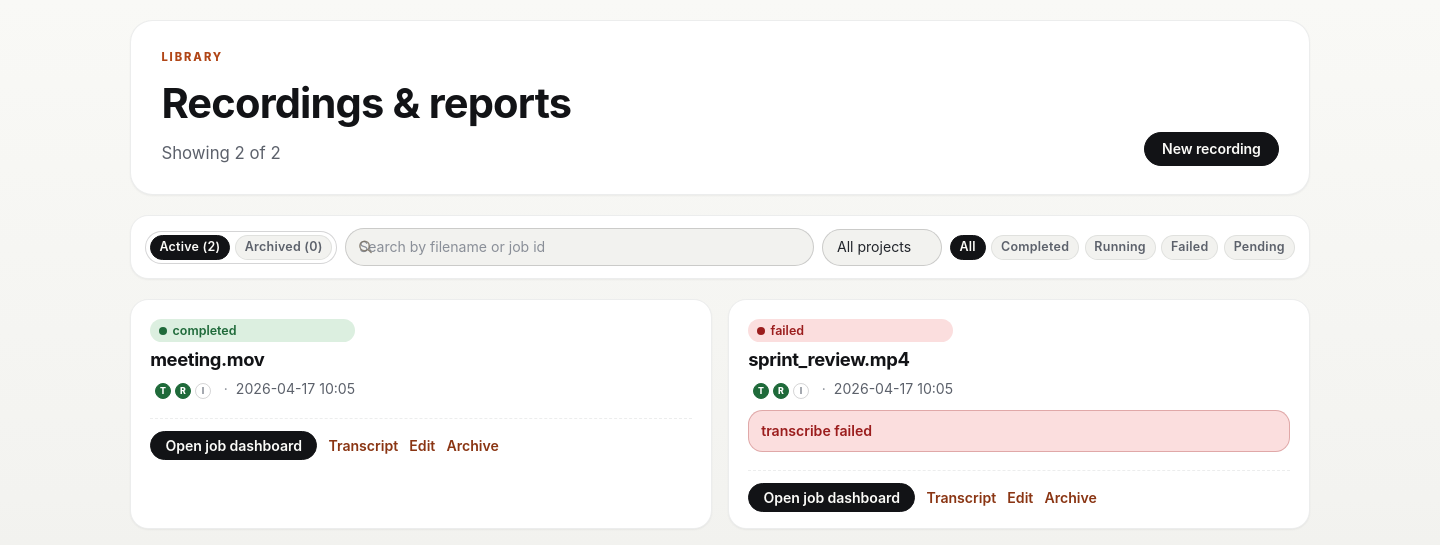
JobsIndexPage › filters by search term and by status pill
Expected: the heading "meeting.mov" is shown, 150,348 -> 264,370
Type "sprint" into the search field with placeholder "Search by filename or job id".
click(580, 247); type("sprint")  # box 345,228 -> 814,266
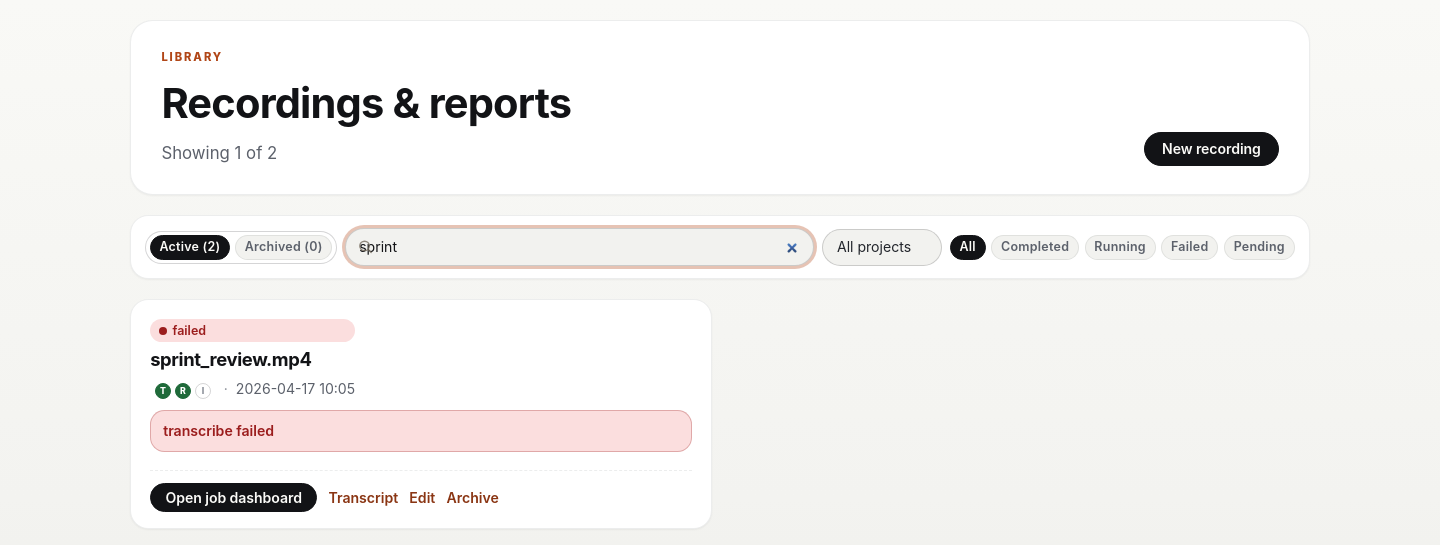
Expected: the heading "sprint_review.mp4" is shown, 150,348 -> 312,370
Expected: the heading "meeting.mov" is gone
Clear the search field with placeholder "Search by filename or job id" at (580, 247), box 345,228 -> 814,266
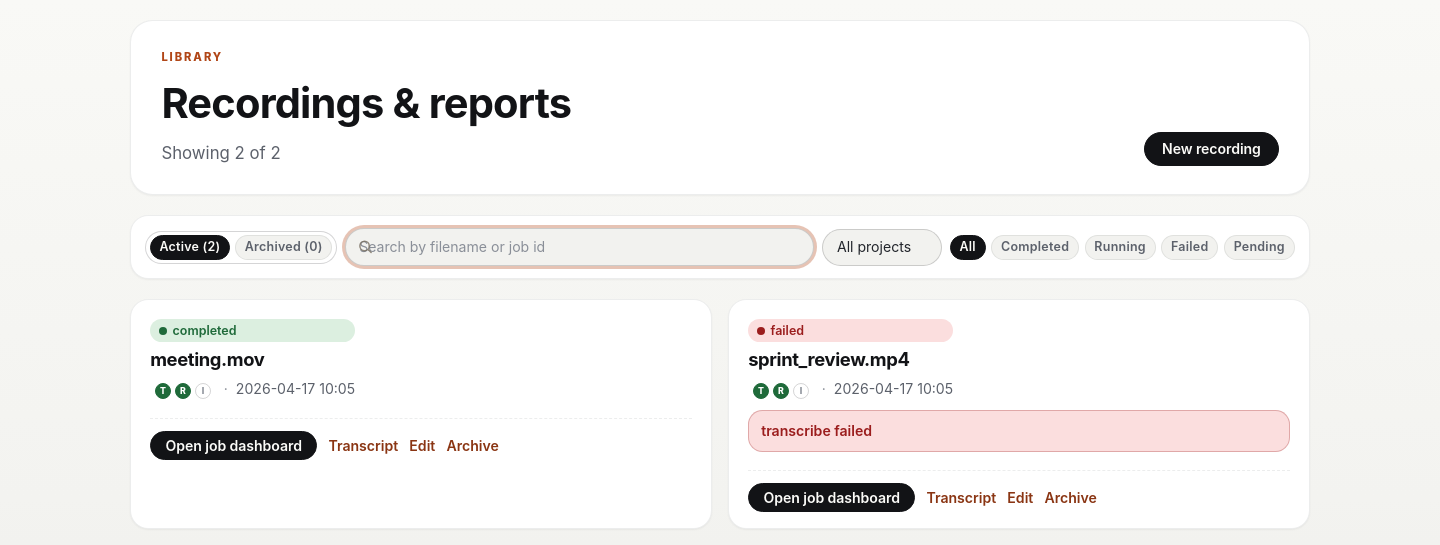
Click the radio button labelled "Completed".
click(1035, 247)  # box 991,235 -> 1079,260
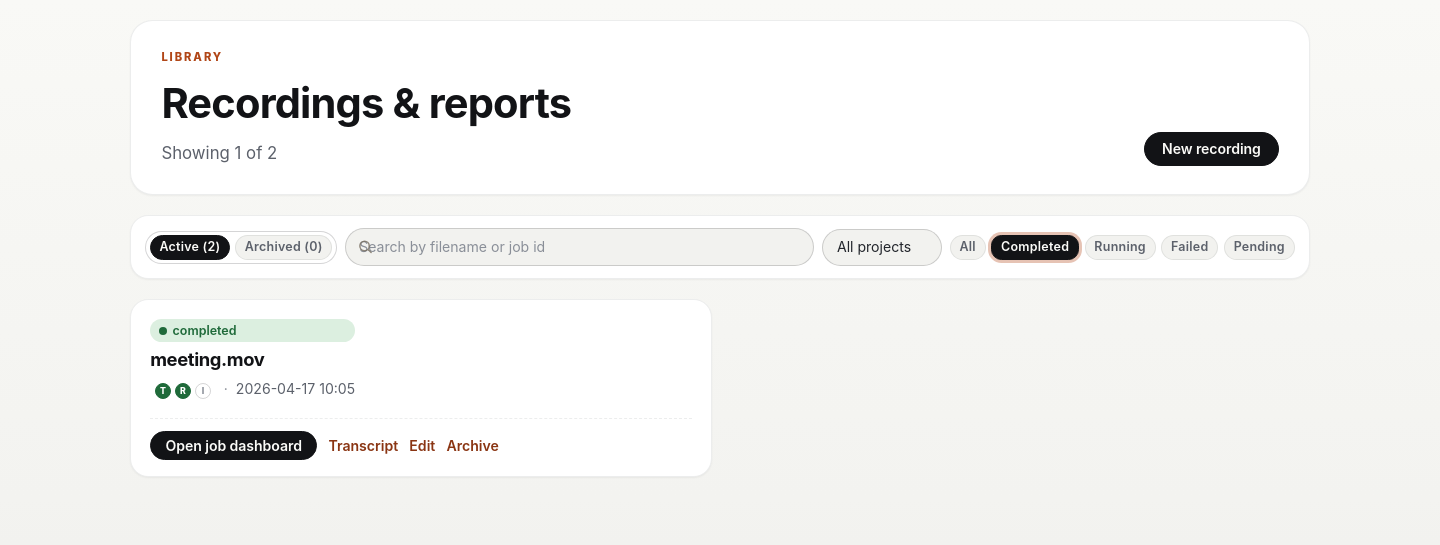
Expected: the heading "meeting.mov" is shown, 150,348 -> 264,370
Expected: the heading "sprint_review.mp4" is gone
